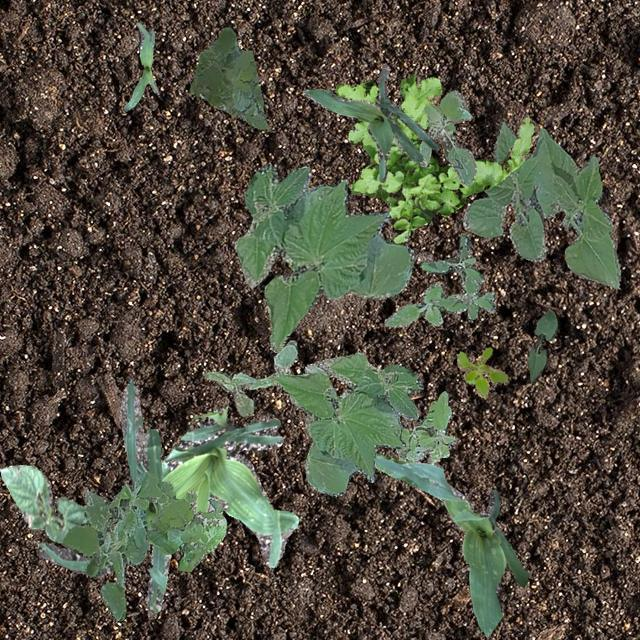crop: (233, 162, 412, 352), (36, 378, 170, 614), (374, 452, 528, 636), (462, 120, 620, 288), (160, 406, 298, 566), (270, 352, 422, 494), (302, 64, 438, 182), (0, 464, 90, 542), (122, 21, 158, 110), (526, 308, 556, 379)
weed: (334, 74, 538, 242), (61, 470, 148, 620), (202, 340, 336, 436), (188, 27, 266, 128), (146, 472, 226, 570), (420, 234, 494, 318), (418, 90, 476, 184), (394, 390, 454, 462), (383, 280, 468, 326), (456, 347, 506, 398)
